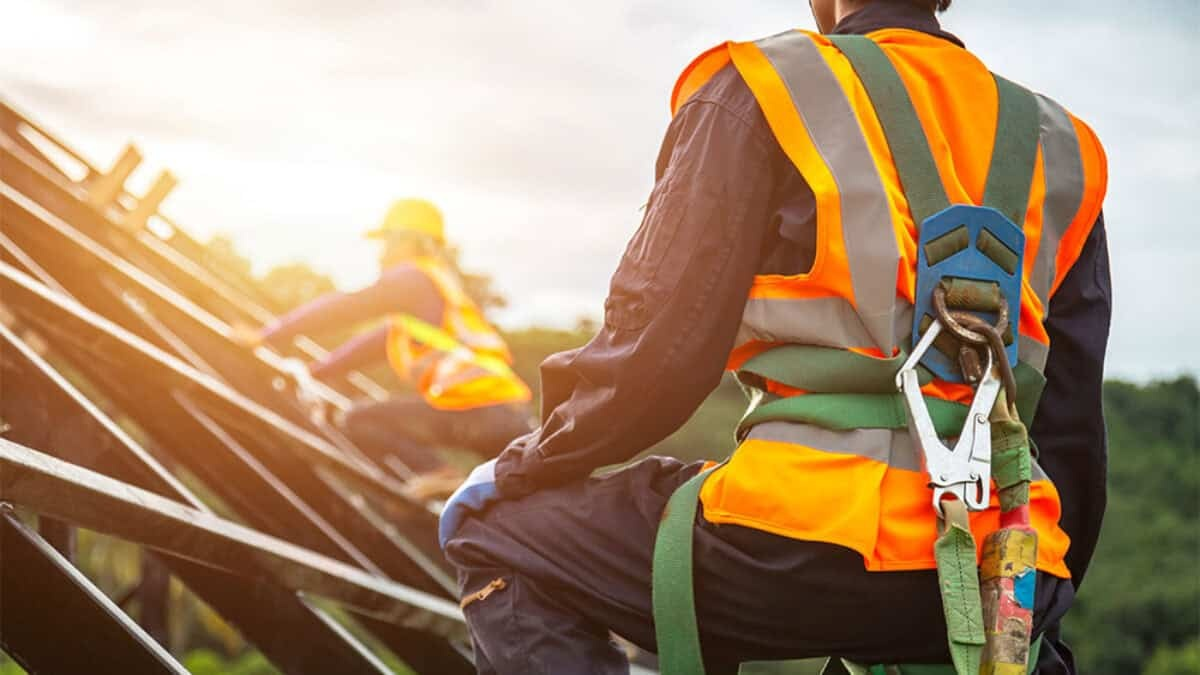Person: (604, 0, 1053, 675)
Safety_Harness: (652, 41, 1051, 675)
